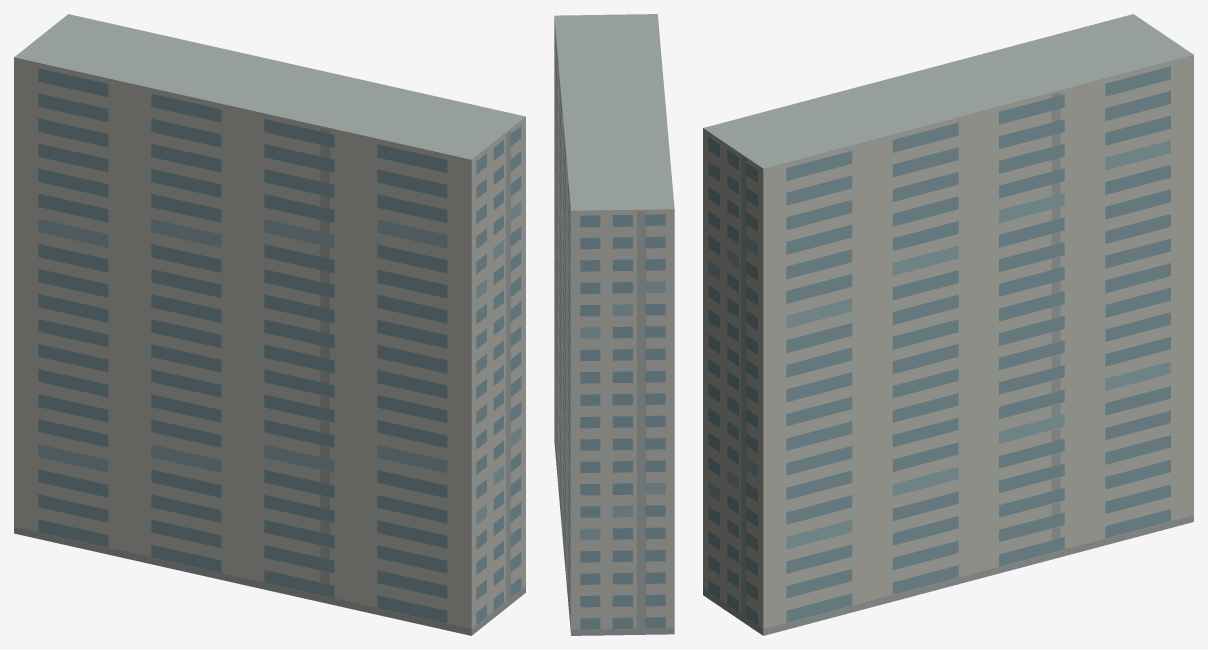
The model's file is residential-cc039176-6981-4445-bc4b-49eb8923a51f.glb.
The picture shows the model from 3 angles, left to right: view 1: azimuth 30°, elevation 25°; view 2: azimuth 150°, elevation 25°; view 3: azimuth 270°, elevation 25°; orthographic projection. The views are drawn at different scales.
Parts seen in each view (by area): view 1: residential-cc039176-6981-4445-bc4b-49eb8923a51f.tmp; view 2: residential-cc039176-6981-4445-bc4b-49eb8923a51f.tmp; view 3: residential-cc039176-6981-4445-bc4b-49eb8923a51f.tmp.
Part boxes in pixels (box(x1,y1,x2,y2)): residential-cc039176-6981-4445-bc4b-49eb8923a51f.tmp: box(14, 14, 525, 635); residential-cc039176-6981-4445-bc4b-49eb8923a51f.tmp: box(554, 14, 674, 635); residential-cc039176-6981-4445-bc4b-49eb8923a51f.tmp: box(703, 14, 1193, 635).
Size of the model in its own units: 40.5 by 57 by 54.29.
